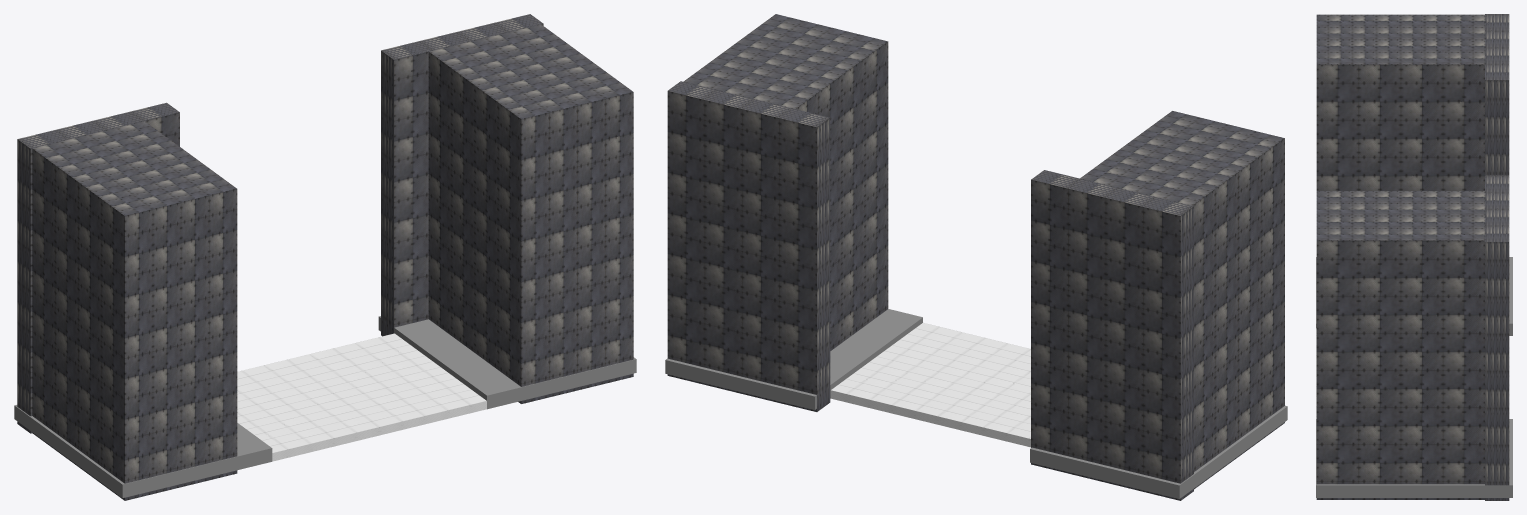
Rendered from platformlvl3_1.FBX.
The picture shows the model from 3 angles, left to right: view 1: azimuth 30°, elevation 25°; view 2: azimuth 150°, elevation 25°; view 3: azimuth 270°, elevation 25°; orthographic projection. The views are drawn at different scales.
Visible parts, largest first — view 1: Box010, Box016, Box009, Box018, Box017, Box014, Box015; view 2: Box018, Box017, Box010, Box016, Box009, Box014, Box015; view 3: Box016, Box010, Box018, Box017, Box014, Box015.
Boxes of the visible parts, x1=… form: Box010: x1=32, y1=121, x2=237, y2=500; Box016: x1=428, y1=24, x2=633, y2=403; Box009: x1=237, y1=333, x2=486, y2=461; Box018: x1=381, y1=14, x2=543, y2=336; Box017: x1=17, y1=102, x2=179, y2=433; Box014: x1=378, y1=316, x2=636, y2=409; Box015: x1=14, y1=405, x2=272, y2=498; Box018: x1=667, y1=81, x2=830, y2=411; Box017: x1=1031, y1=170, x2=1193, y2=500; Box010: x1=1080, y1=111, x2=1284, y2=489; Box016: x1=683, y1=14, x2=888, y2=350; Box009: x1=830, y1=322, x2=1030, y2=447; Box014: x1=665, y1=309, x2=922, y2=409; Box015: x1=1030, y1=405, x2=1287, y2=498; Box016: x1=1316, y1=191, x2=1485, y2=499; Box010: x1=1316, y1=14, x2=1485, y2=190; Box018: x1=1485, y1=175, x2=1509, y2=500; Box017: x1=1485, y1=14, x2=1509, y2=175; Box014: x1=1316, y1=419, x2=1512, y2=497; Box015: x1=1316, y1=257, x2=1512, y2=335.
Bounding box in the file's own units: 64.32 × 34.05 × 23.45.
Materials: 3 (2 with a texture image).
